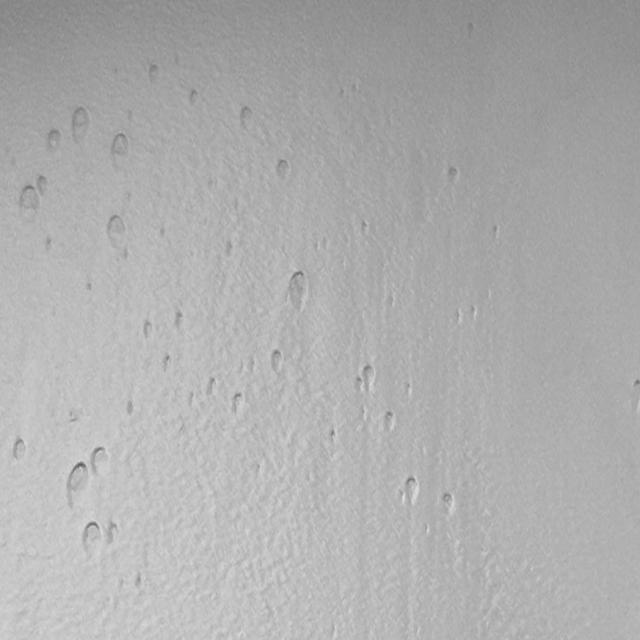pin holes: (283, 269, 312, 312), (104, 210, 130, 252), (78, 520, 104, 560), (65, 461, 91, 498), (67, 106, 92, 144), (18, 180, 44, 213), (110, 131, 134, 163), (88, 445, 112, 477), (236, 107, 258, 136), (402, 476, 423, 506), (42, 128, 64, 155), (9, 436, 30, 464), (267, 349, 288, 377), (272, 156, 292, 184), (358, 363, 378, 391), (438, 489, 458, 515), (444, 163, 464, 188), (140, 317, 159, 343), (172, 309, 191, 334), (381, 410, 399, 435), (145, 62, 163, 87), (229, 390, 246, 416), (462, 20, 481, 43), (108, 521, 125, 546), (36, 174, 53, 198), (352, 373, 367, 396), (187, 88, 202, 109), (206, 376, 221, 397), (44, 235, 57, 256), (124, 402, 140, 419), (66, 408, 83, 424), (452, 307, 466, 326), (162, 352, 174, 374), (403, 382, 415, 402), (360, 220, 373, 237), (329, 428, 341, 446), (468, 304, 480, 322), (134, 574, 146, 592), (188, 389, 197, 412), (492, 223, 504, 240), (85, 278, 97, 294), (225, 238, 235, 257), (360, 406, 367, 426), (322, 234, 329, 254), (389, 292, 395, 311), (250, 359, 257, 375), (159, 226, 166, 241), (315, 238, 320, 254), (424, 522, 430, 534)
